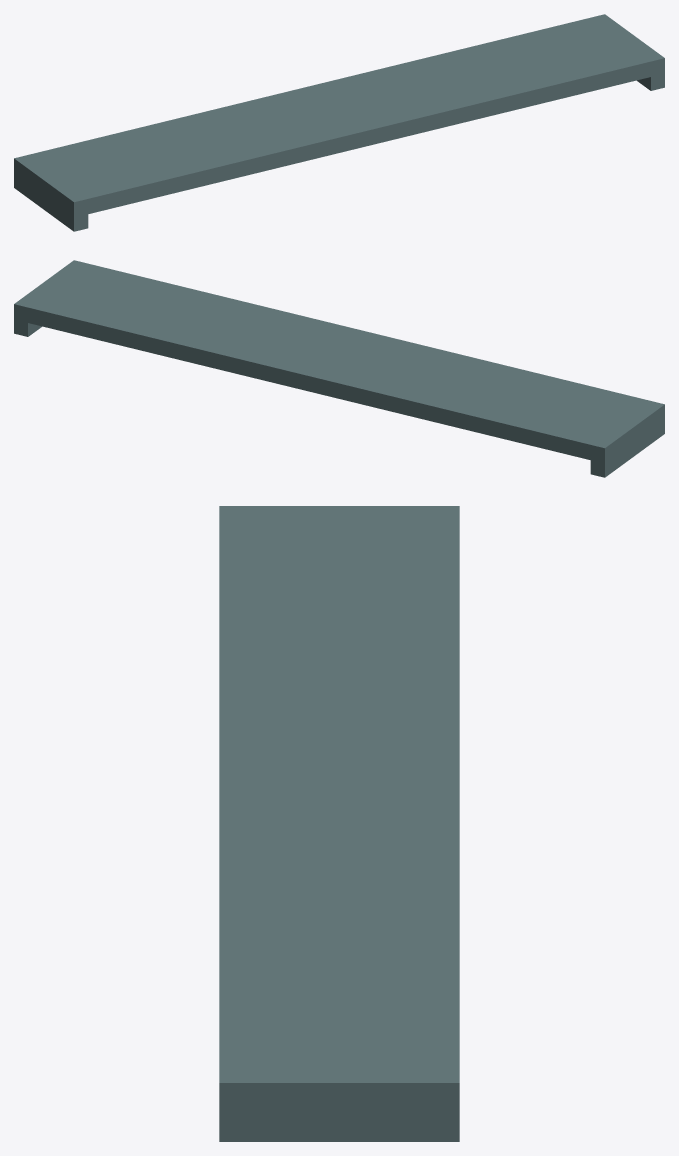
File: LampSeeling.gltf
3 views of the same model, one above another, from view 1: azimuth 30°, elevation 25°; view 2: azimuth 150°, elevation 25°; view 3: azimuth 270°, elevation 25° (orthographic). The views are drawn at different scales.
Parts seen in each view (by area): view 1: LampSeelign; view 2: LampSeelign; view 3: LampSeelign.
Part boxes in pixels (box(x1,y1,x2,y2)): LampSeelign: box(14, 14, 664, 231); LampSeelign: box(14, 260, 664, 477); LampSeelign: box(219, 506, 459, 1141).
Size of the model in its own units: 5.15 by 0.2456 by 0.9059.
